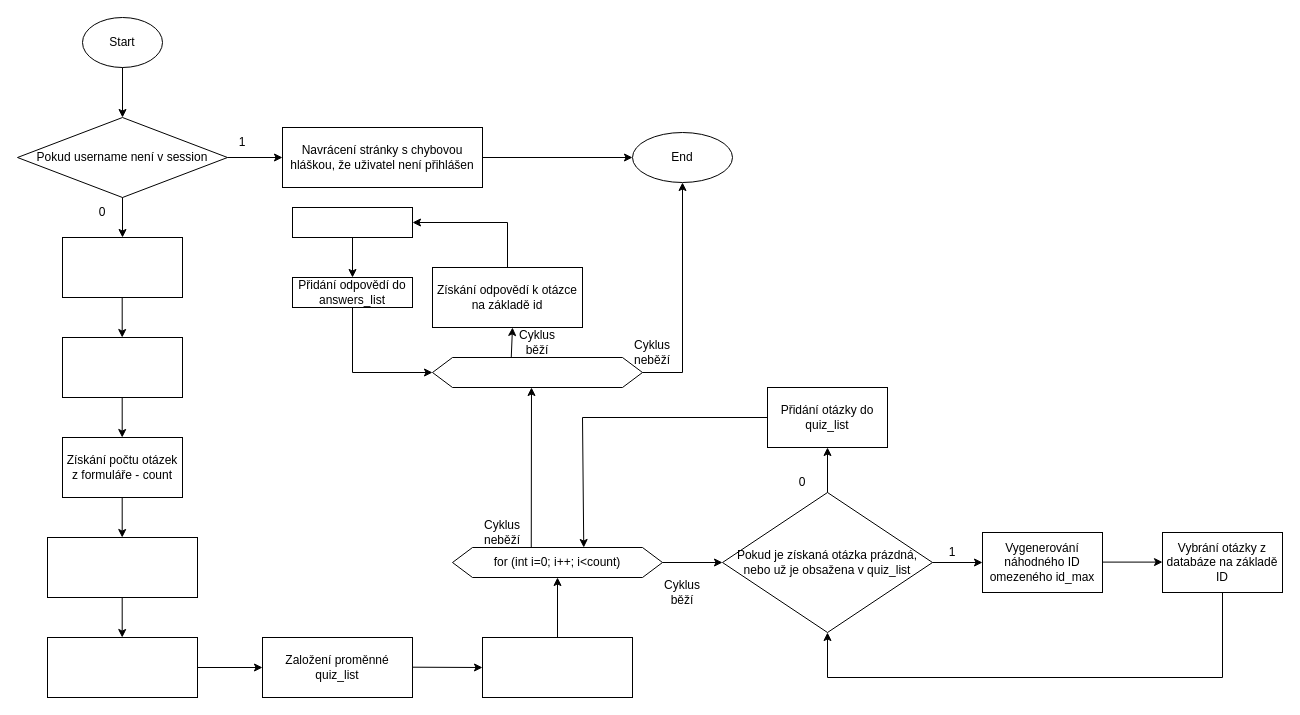
Some shapes in this 1300 by 715 pixel diagram are drawn without their labels. The box of each missing label's shape, as (x1, y1, x2, y2) in pixels:
for id in quiz_list: (432, 356, 642, 388)
Založení proměnné answers_list: (482, 636, 632, 698)
Založení proměnné correct_wrong: (62, 336, 182, 398)
Založení proměnné quiz_list_index: (62, 236, 182, 298)
Zamixování odpovědí: (292, 206, 412, 238)
Získání ID kategorie z databáe na základě jejího názvu - category_id: (46, 636, 198, 698)
Získání názvu kategorie z formuláře - category: (46, 536, 198, 598)
